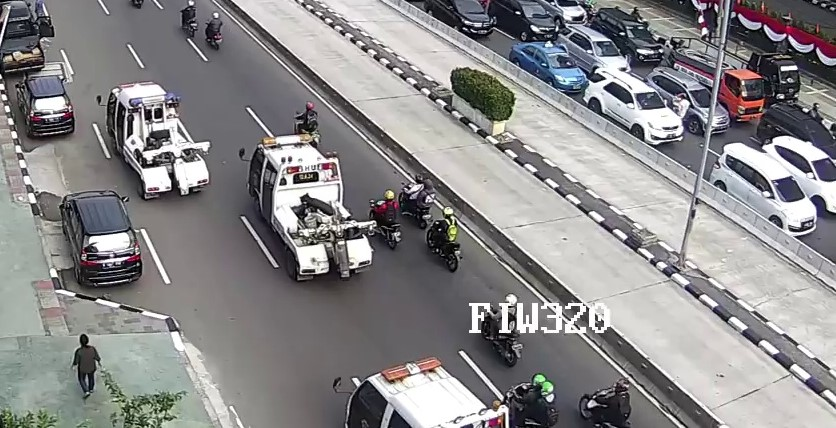car: (251, 132, 372, 283), (107, 81, 209, 201), (347, 357, 509, 428), (710, 142, 817, 240), (677, 39, 798, 105), (60, 191, 141, 286), (586, 69, 681, 147), (675, 47, 761, 124), (760, 134, 836, 215), (647, 64, 728, 138), (756, 103, 836, 164), (556, 23, 629, 81), (591, 8, 662, 67), (510, 40, 587, 94), (17, 73, 75, 136), (1, 11, 47, 77), (486, 1, 551, 42), (426, 1, 495, 36)
motorbike: (505, 375, 562, 427), (483, 290, 521, 363), (578, 382, 633, 428), (426, 205, 462, 272), (368, 189, 403, 253), (399, 173, 433, 228), (296, 104, 321, 147), (203, 10, 223, 52), (181, 1, 197, 39)
